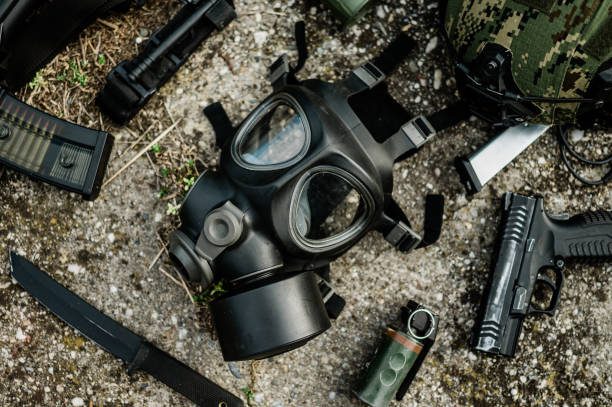e1: (349, 304, 438, 406)
